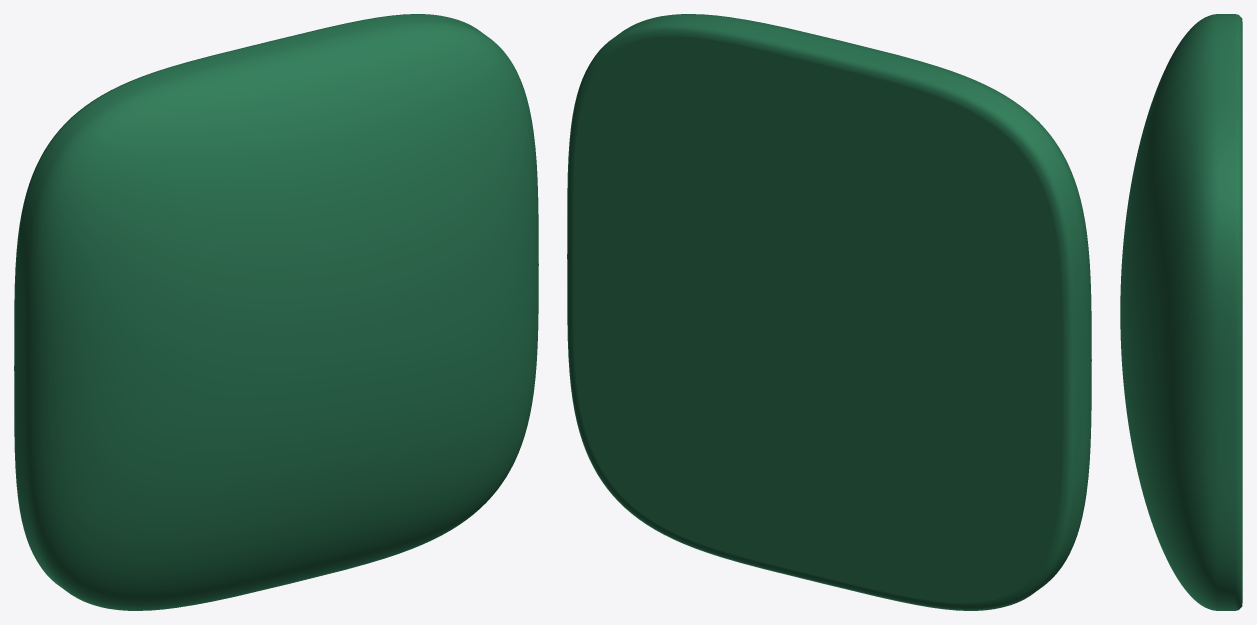
The model's file is cushion.glb.
3 renders of one model, left to right at view 1: azimuth 30°, elevation 25°; view 2: azimuth 150°, elevation 25°; view 3: azimuth 270°, elevation 25°, orthographic. The views are drawn at different scales.
Visible parts, largest first — view 1: Cushion Cabochon 17x17x4mm; view 2: Cushion Cabochon 17x17x4mm; view 3: Cushion Cabochon 17x17x4mm.
Boxes of the visible parts, x1=… form: Cushion Cabochon 17x17x4mm: x1=14, y1=14, x2=538, y2=610; Cushion Cabochon 17x17x4mm: x1=567, y1=14, x2=1091, y2=610; Cushion Cabochon 17x17x4mm: x1=1120, y1=14, x2=1242, y2=610.
Size of the model in its own units: 0.017 by 0.017 by 0.00398.
